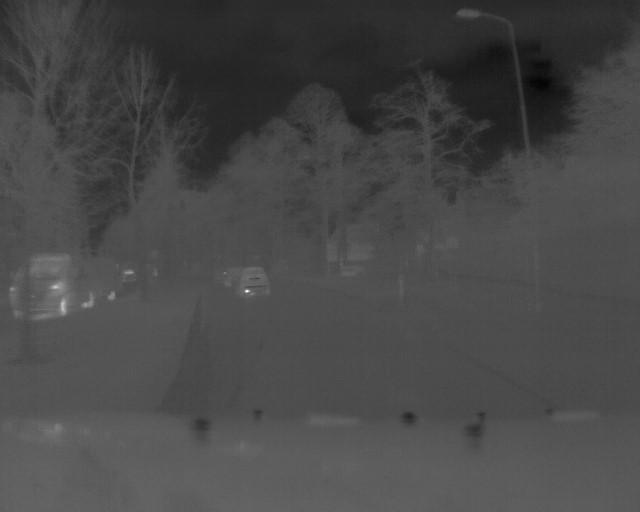car: (11, 246, 102, 322), (235, 264, 271, 300)
